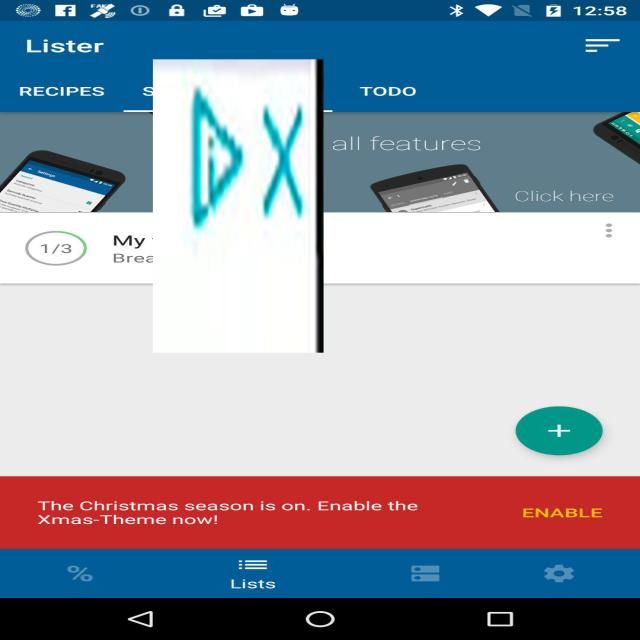sneaking: (153, 59, 323, 353)
